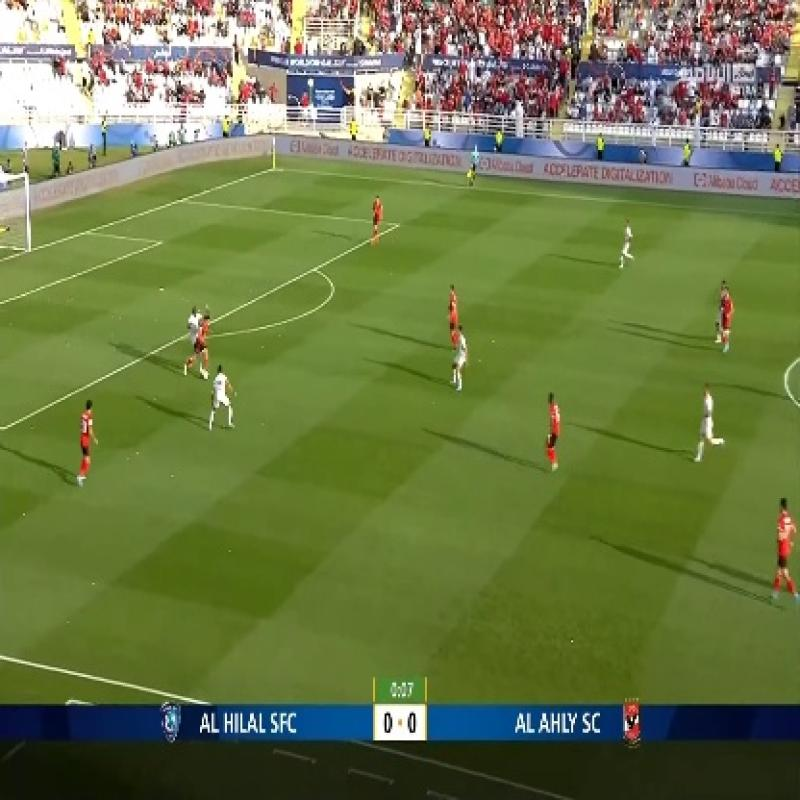1: (263, 160, 281, 176)
10: (304, 256, 323, 277)
2: (174, 190, 188, 208)
3: (76, 222, 94, 241)
7: (150, 233, 166, 250)
9: (386, 213, 404, 233)
c: (770, 359, 800, 403)
